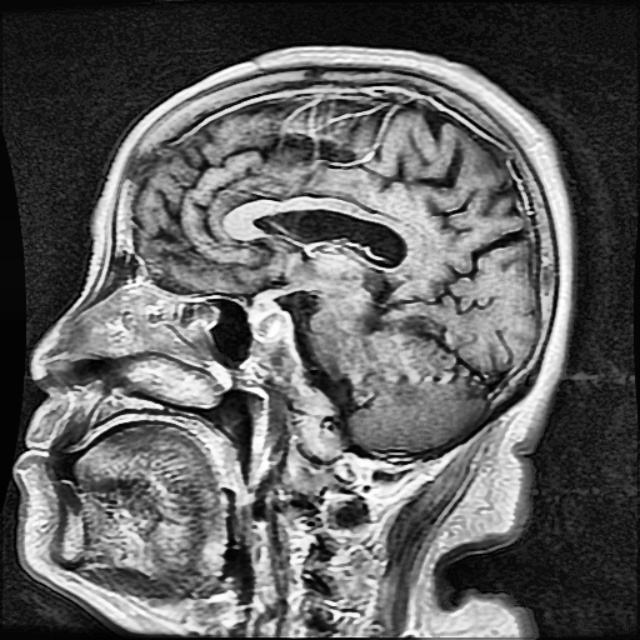Pituitary: (249, 298, 289, 343)
